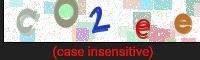2: (86, 3, 115, 35)
C: (13, 6, 43, 35)
O: (51, 1, 84, 31)
e: (131, 16, 156, 40), (174, 11, 195, 36)
